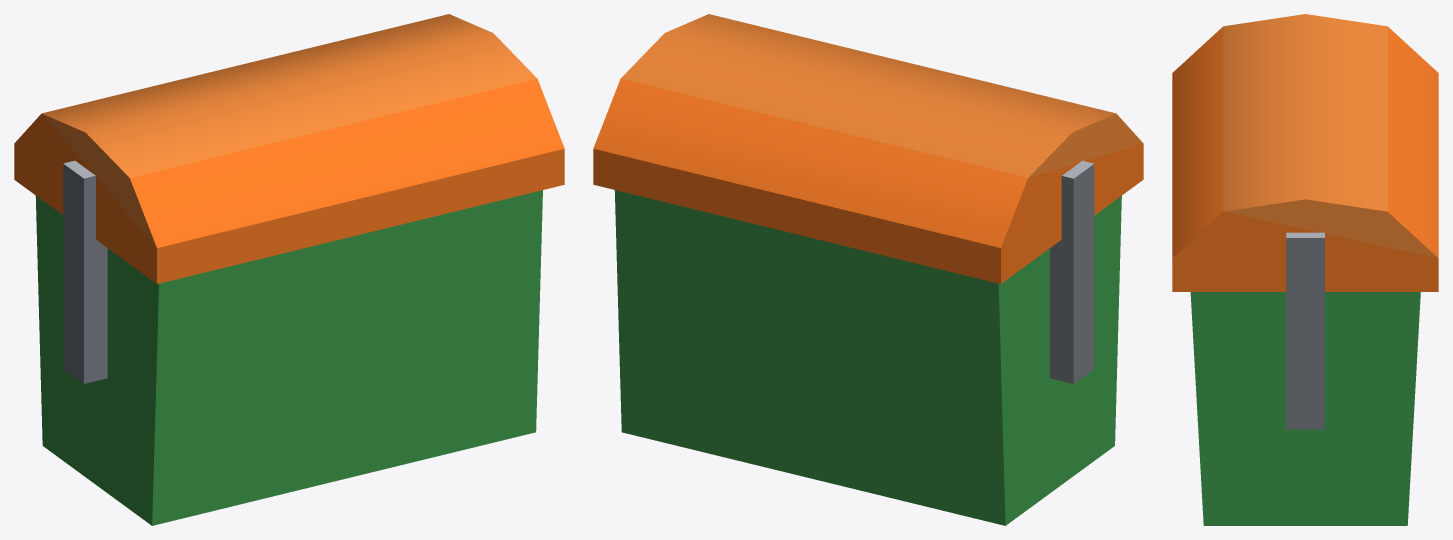
The model's file is trash_can_05_pacote.glb.
3 views of the same model, side by side, from view 1: azimuth 30°, elevation 25°; view 2: azimuth 150°, elevation 25°; view 3: azimuth 270°, elevation 25° (orthographic). The views are drawn at different scales.
Parts seen in each view (by area): view 1: trash_can_05_pacote; view 2: trash_can_05_pacote; view 3: trash_can_05_pacote.
Boxes of the visible parts, x1,y1,x2,y2 form: trash_can_05_pacote: (14,14,564,525); trash_can_05_pacote: (593,14,1143,525); trash_can_05_pacote: (1172,14,1438,525).
Bounding box in the file's own units: 2.08 × 1.65 × 1.2.
1 material, 1 textured.
